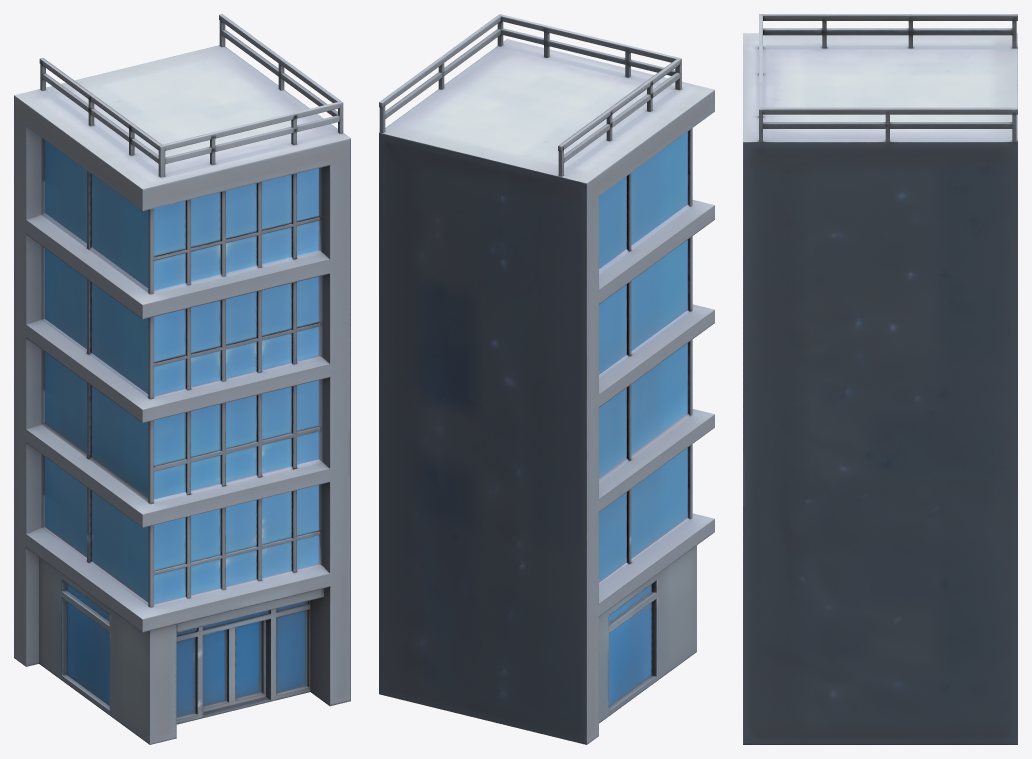
File: edificio.obj
3 renders of one model, left to right at view 1: azimuth 30°, elevation 25°; view 2: azimuth 150°, elevation 25°; view 3: azimuth 270°, elevation 25°, orthographic. The views are drawn at different scales.
Visible parts, largest first — view 1: model; view 2: model; view 3: model.
Boxes of the visible parts, x1,y1,x2,y2 form: model: [14, 14, 350, 744]; model: [379, 14, 714, 744]; model: [743, 14, 1017, 744].
Bounding box in the file's own units: 0.6987 × 1.9 × 0.7455.
1 material, 1 textured.
